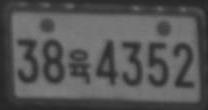2: (174, 42, 195, 88)
3: (121, 40, 143, 86), (16, 38, 38, 82)
4: (95, 39, 118, 86)
5: (147, 42, 169, 86)
8: (41, 38, 65, 83)
육: (66, 49, 92, 84)
